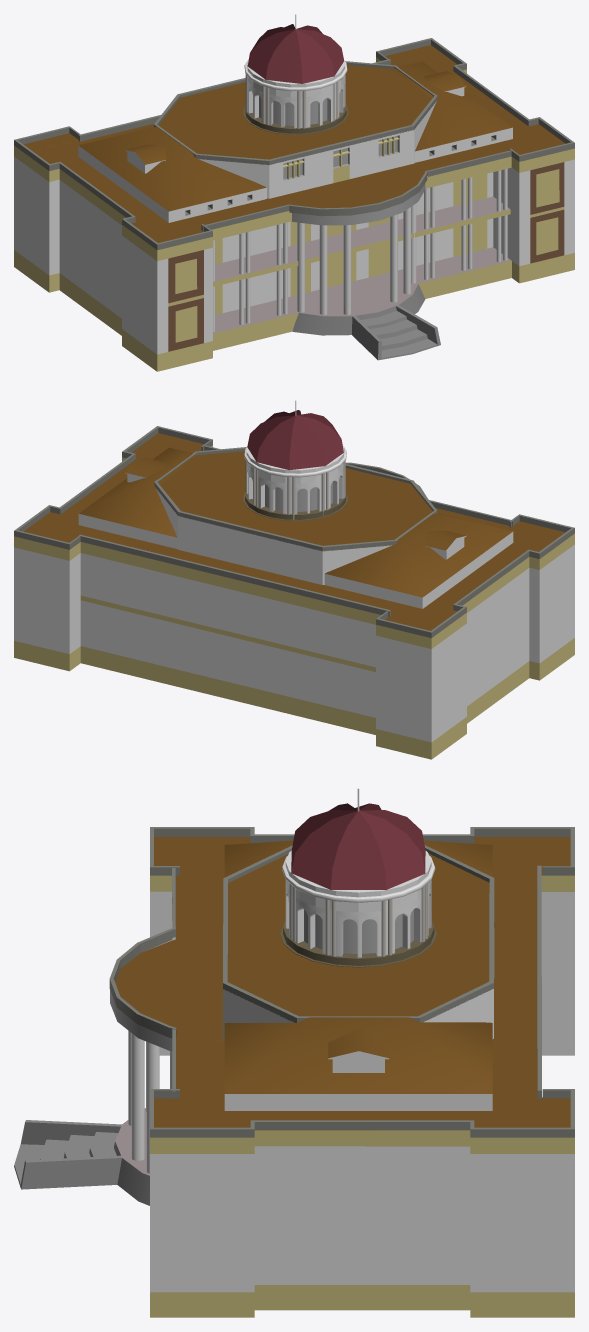
File: 八卦楼3.fbx
The picture shows the model from 3 angles, top to bottom: view 1: azimuth 30°, elevation 25°; view 2: azimuth 150°, elevation 25°; view 3: azimuth 270°, elevation 25°; orthographic projection. The views are drawn at different scales.
Parts seen in each view (by area): view 1: pCube6, pCube1, pPrism3, pCube7, pCube65, pCylinder1, pPrism6, pCube66, pSphere1, pCylinder9, pCylinder47, pCube18 (+16 smaller); view 2: pCube1, pCube6, pPrism3, pCube7, pCube65, pPrism6, pCube66, pSphere1, pCylinder47, pCube18, pCube20, pPrism5 (+3 smaller); view 3: pCube7, pPrism3, pCube66, pCube1, pCube6, pSphere1, pCylinder9, pCylinder1, pCylinder47, pCube18, pCube20, pPrism5 (+10 smaller).
Boxes of the visible parts, left/top/right/bottom form: pCube6: left=14, top=140, right=212, bottom=371; pCube1: left=78, top=59, right=513, bottom=350; pPrism3: left=158, top=65, right=431, bottom=159; pCube7: left=376, top=54, right=574, bottom=283; pCube65: left=78, top=127, right=266, bottom=222; pCylinder1: left=292, top=284, right=440, bottom=360; pPrism6: left=198, top=101, right=436, bottom=198; pCube66: left=391, top=61, right=512, bottom=162; pSphere1: left=247, top=24, right=344, bottom=83; pCylinder9: left=265, top=162, right=421, bottom=208; pCylinder47: left=244, top=59, right=347, bottom=128; pCube18: left=376, top=38, right=574, bottom=161; pCube1: left=78, top=445, right=514, bottom=734; pCube6: left=376, top=527, right=574, bottom=759; pPrism3: left=160, top=451, right=432, bottom=545; pCube7: left=14, top=442, right=212, bottom=671; pCube65: left=324, top=513, right=513, bottom=608; pPrism6: left=156, top=488, right=391, bottom=584; pCube66: left=78, top=447, right=199, bottom=548; pSphere1: left=247, top=410, right=343, bottom=470; pCylinder47: left=244, top=445, right=346, bottom=514; pCube18: left=14, top=426, right=212, bottom=549; pCube20: left=376, top=514, right=574, bottom=637; pPrism5: left=154, top=447, right=437, bottom=551; pCube7: left=150, top=1097, right=574, bottom=1317; pPrism3: left=227, top=853, right=489, bottom=1016; pCube66: left=224, top=1017, right=492, bottom=1110; pCube1: left=172, top=865, right=541, bottom=1098; pCube6: left=150, top=844, right=574, bottom=1055; pSphere1: left=291, top=803, right=425, bottom=890; pCylinder9: left=115, top=931, right=224, bottom=1041; pCylinder1: left=14, top=1108, right=149, bottom=1205; pCylinder47: left=282, top=850, right=435, bottom=957; pCube18: left=150, top=1089, right=574, bottom=1137; pCube20: left=150, top=827, right=574, bottom=875; pPrism5: left=223, top=845, right=494, bottom=1022.
Size of the model in its own units: 25.52 by 14.9 by 20.01.
